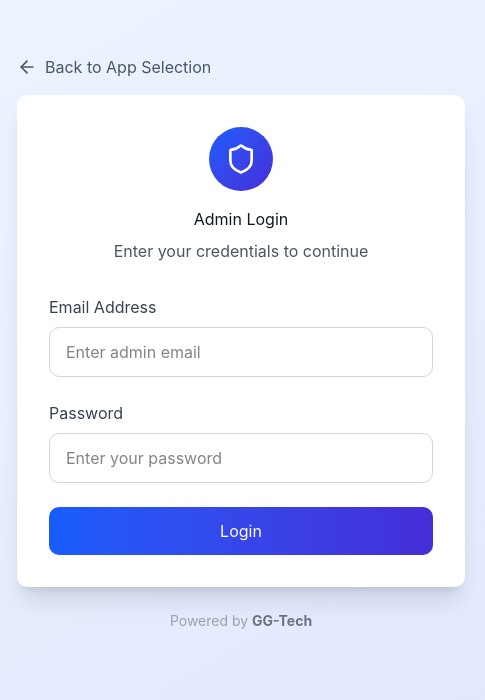
Test: AdminLoginScreen › clearing errors › clears an incorrect-credentials error when the email changes
In the field labelled "Email Address": {"x": 241, "y": 352} x1=49 y1=327 x2=433 y2=377, type "admin@arka.test"
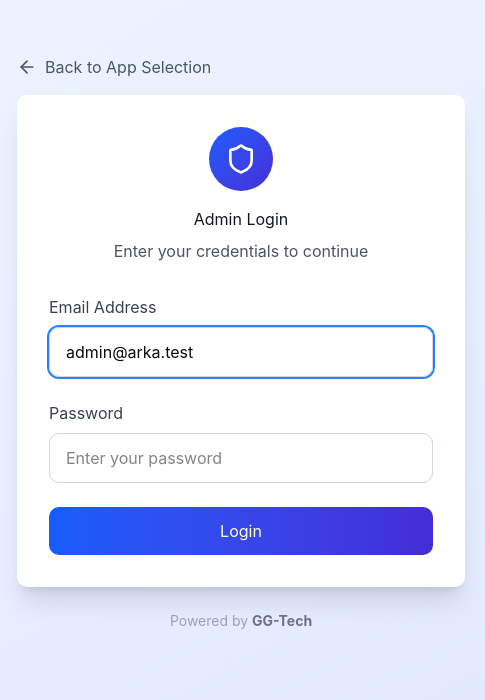
In the password field labelled "Password": {"x": 241, "y": 458} x1=49 y1=433 x2=433 y2=483, type "wrong"
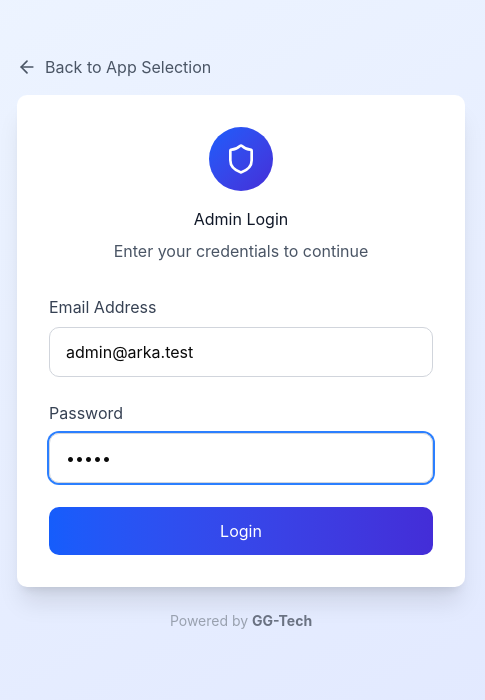
Click the button "Login": {"x": 241, "y": 531} x1=49 y1=507 x2=433 y2=555
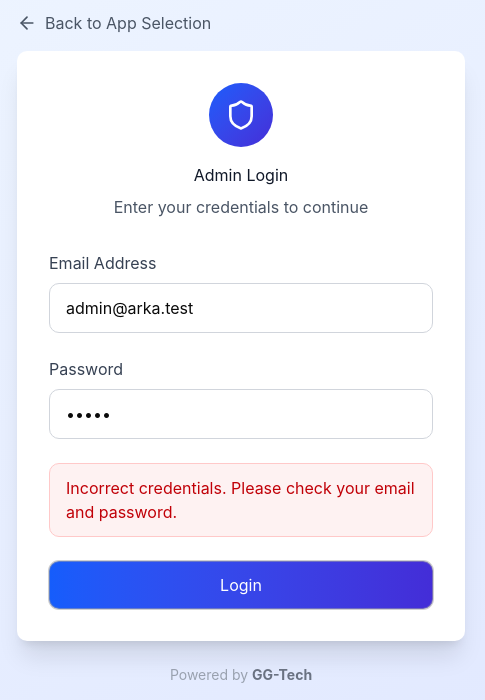
Expected: the text "Incorrect credentials. Please check your email and password." is shown, x1=49 y1=463 x2=433 y2=537
In the field labelled "Email Address": {"x": 241, "y": 308} x1=49 y1=283 x2=433 y2=333, type "x"
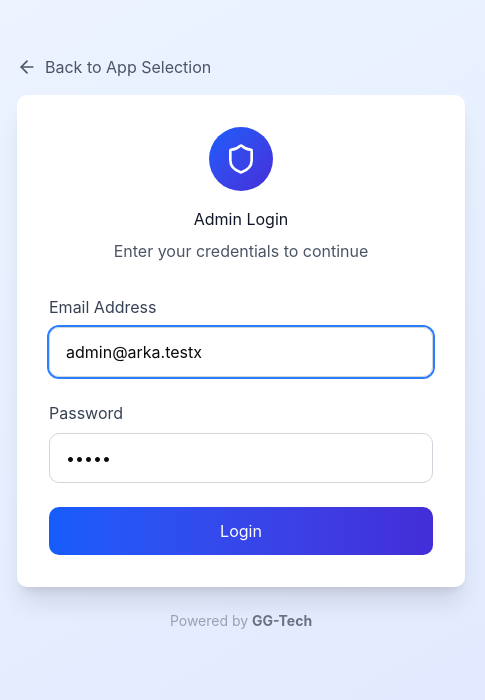
Expected: the text "Incorrect credentials. Please check your email and password." is gone
